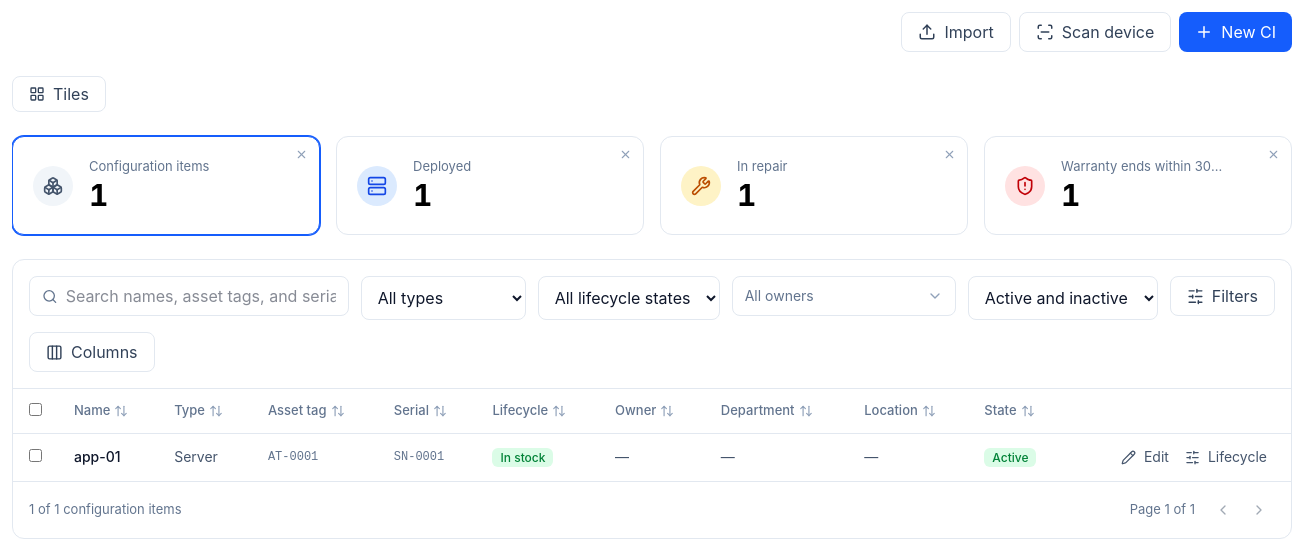
CiListPage › shows only the name in the owner list
This screenshot has width=1304, height=556.
Expected: the link "app-01" is shown, [74, 448, 121, 465]
Click the dropdown named "Filter by owner": (834,296) [745, 286, 923, 306]
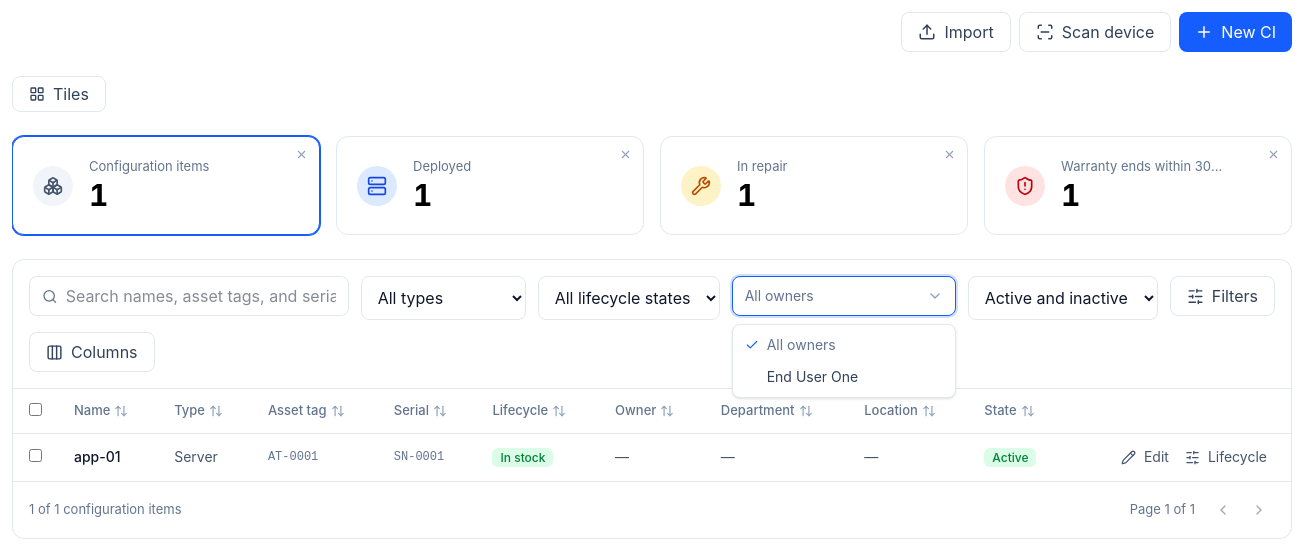
Expected: the option "End User One" does not show "Finance", [767, 368, 858, 385]
Result: the option "End User One" is shown at [767, 368, 858, 385]
